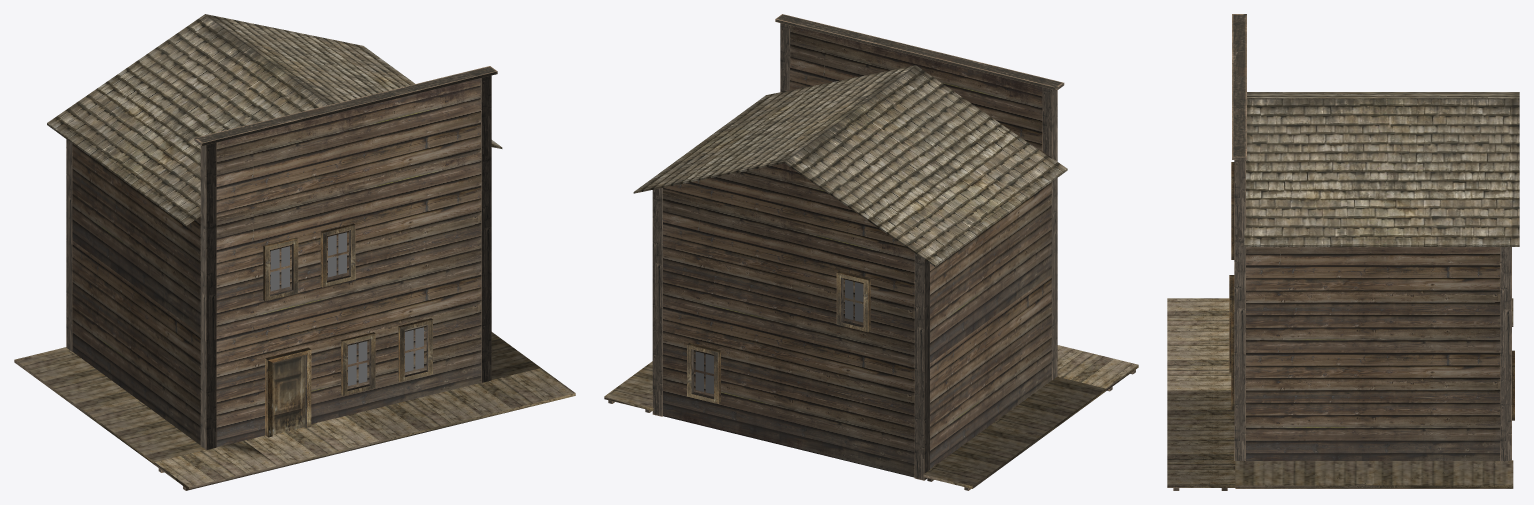
The model's file is Building4_LOD1.FBX.
3 renders of one model, left to right at view 1: azimuth 30°, elevation 25°; view 2: azimuth 150°, elevation 25°; view 3: azimuth 270°, elevation 25°, orthographic. The views are drawn at different scales.
Visible parts, largest first — view 1: roof, building, glass; view 2: roof, building, glass; view 3: roof, building.
Boxes of the visible parts, <box> form: roof: <box>47,14,502,446</box>; building: <box>14,66,575,490</box>; glass: <box>270,232,423,385</box>; roof: <box>633,25,1067,477</box>; building: <box>604,14,1138,490</box>; glass: <box>695,279,863,394</box>; roof: <box>1244,92,1519,460</box>; building: <box>1167,14,1514,490</box>.
Size of the model in its own units: 420 by 328 by 334.
